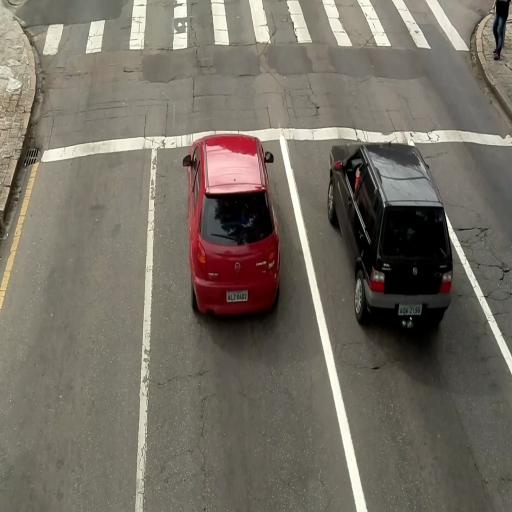car: (328, 139, 452, 329), (183, 132, 281, 318)
